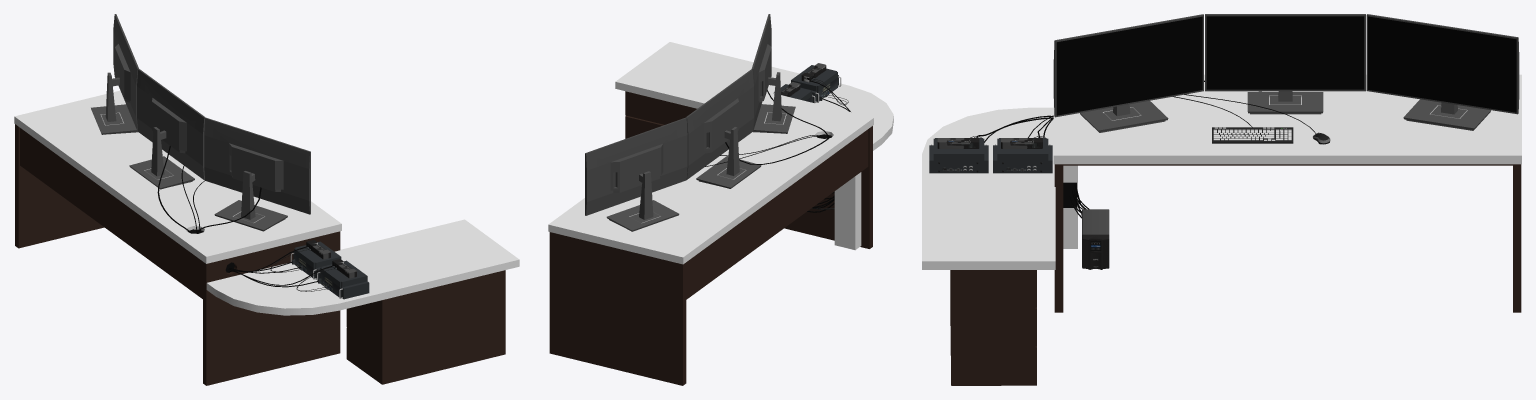
The model's file is NewTable.fbx.
3 renders of one model, left to right at view 1: azimuth 30°, elevation 25°; view 2: azimuth 150°, elevation 25°; view 3: azimuth 270°, elevation 25°, orthographic. The views are drawn at different scales.
Parts seen in each view (by area): view 1: table.003, group_0.003, group_0.002, group_0.001, ER-DS400-A1, NurbsPath.026, ER-DS400-A1.001; view 2: table.003, group_0.001, group_0.002, group_0.003, ER-DS400-A1, NurbsPath.026; view 3: table.003, group_0.002, group_0.001, group_0.003, ups smt1500, ER-DS400-A1, ER-DS400-A1.001, Plane.027, NurbsPath.026.
Boxes of the visible parts, box(x1,y1,x2,y2) form: table.003: box(14, 90, 519, 385); group_0.003: box(204, 117, 310, 231); group_0.002: box(129, 69, 205, 189); group_0.001: box(91, 14, 138, 134); ER-DS400-A1: box(317, 260, 369, 299); NurbsPath.026: box(157, 146, 334, 291); ER-DS400-A1.001: box(290, 241, 341, 279); table.003: box(548, 42, 893, 385); group_0.001: box(585, 117, 687, 231); group_0.002: box(686, 69, 761, 188); group_0.003: box(751, 14, 795, 133); ER-DS400-A1: box(791, 65, 841, 102); NurbsPath.026: box(725, 79, 850, 212); table.003: box(922, 74, 1521, 385); group_0.002: box(1205, 14, 1365, 114); group_0.001: box(1366, 14, 1519, 130); group_0.003: box(1053, 14, 1203, 132); ups smt1500: box(1082, 209, 1109, 269); ER-DS400-A1: box(929, 138, 988, 173); ER-DS400-A1.001: box(993, 138, 1052, 173); Plane.027: box(1212, 127, 1293, 143); NurbsPath.026: box(970, 80, 1261, 218).
Size of the model in its own units: 374 by 227 by 175.
